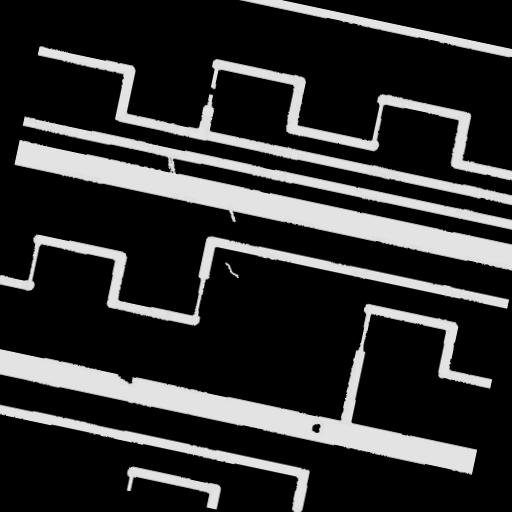copper: (302, 413, 328, 441)
mousebite: (216, 198, 246, 231)
open: (154, 146, 188, 184)
pin-hole: (212, 252, 250, 287)
short: (193, 74, 228, 104)
spur: (103, 358, 143, 393)
